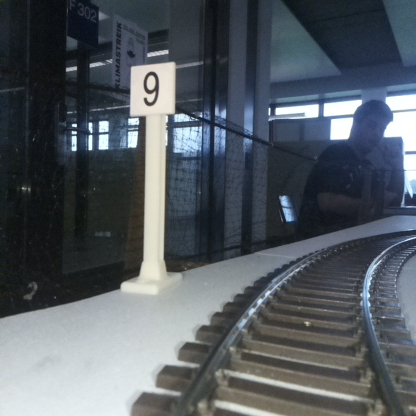white-info-9: (130, 63, 173, 292)
